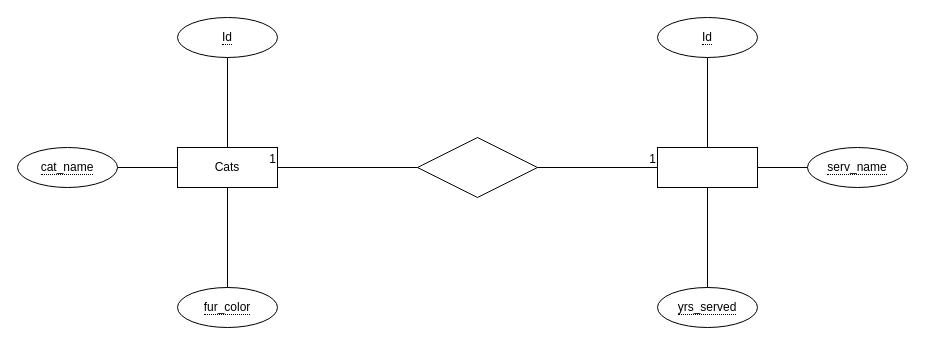
This 925x345 diagram has some shape labels left out. Each missing label, with the centre of its shape:
have: the point at 477,167
Servants: the point at 707,167
